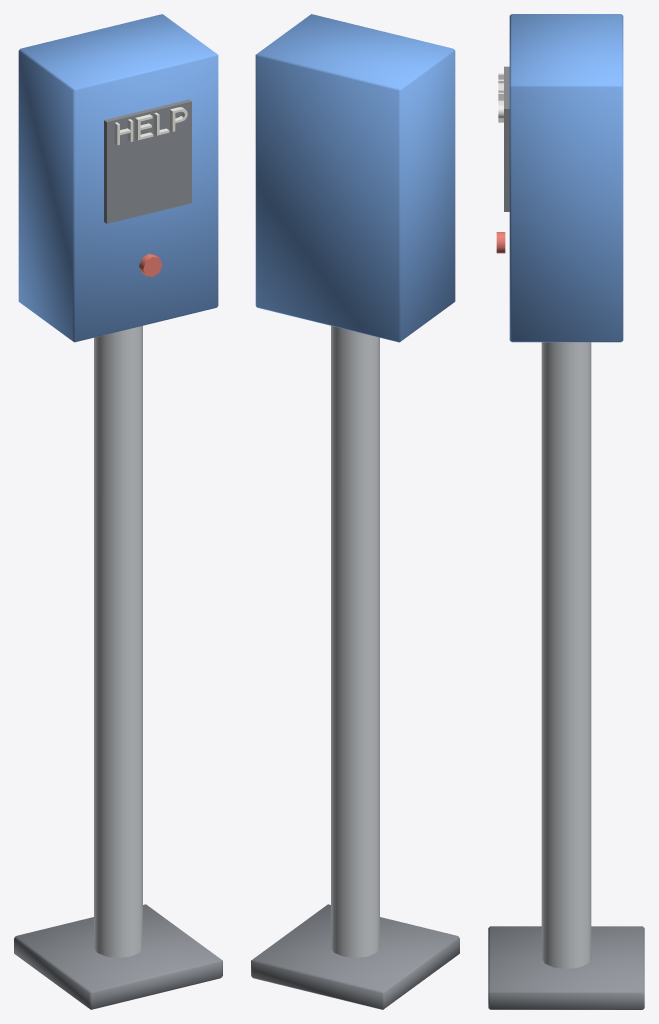
Rendered from CallBox_Pedestal.fbx.
3 views of the same model, side by side, from view 1: azimuth 30°, elevation 25°; view 2: azimuth 150°, elevation 25°; view 3: azimuth 270°, elevation 25° (orthographic).
Parts seen in each view (by area): view 1: LOD0; view 2: LOD0; view 3: LOD0.
Boxes of the visible parts, x1,y1,x2,y2 form: LOD0: (14, 14, 222, 1009); LOD0: (251, 14, 459, 1009); LOD0: (488, 14, 644, 1009).
Size of what is drawn, in the model's own units: 24 by 144 by 22.
